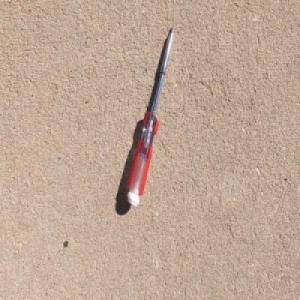Screwdriver: (126, 21, 176, 208)
